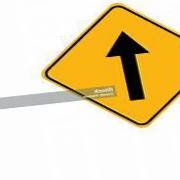forward: (42, 3, 180, 128)
